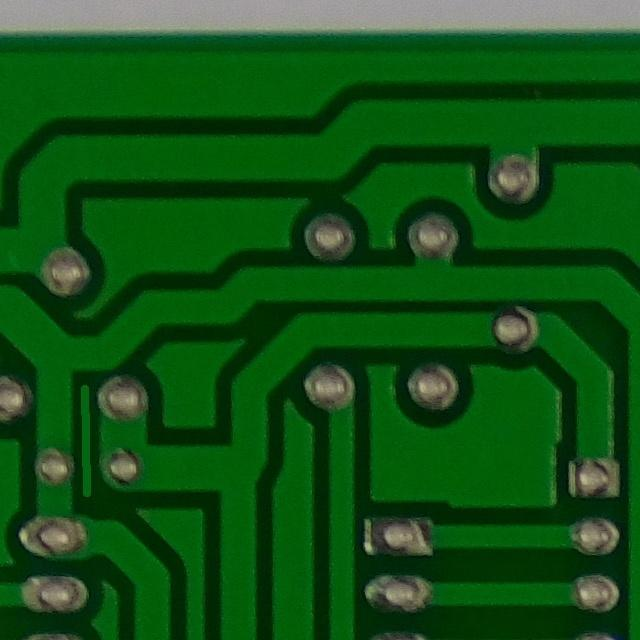spurious_copper: (65, 370, 106, 504)
